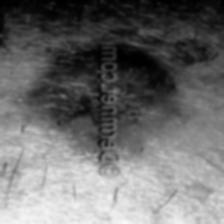Unclassified: (120, 28, 186, 166), (27, 34, 97, 160)
